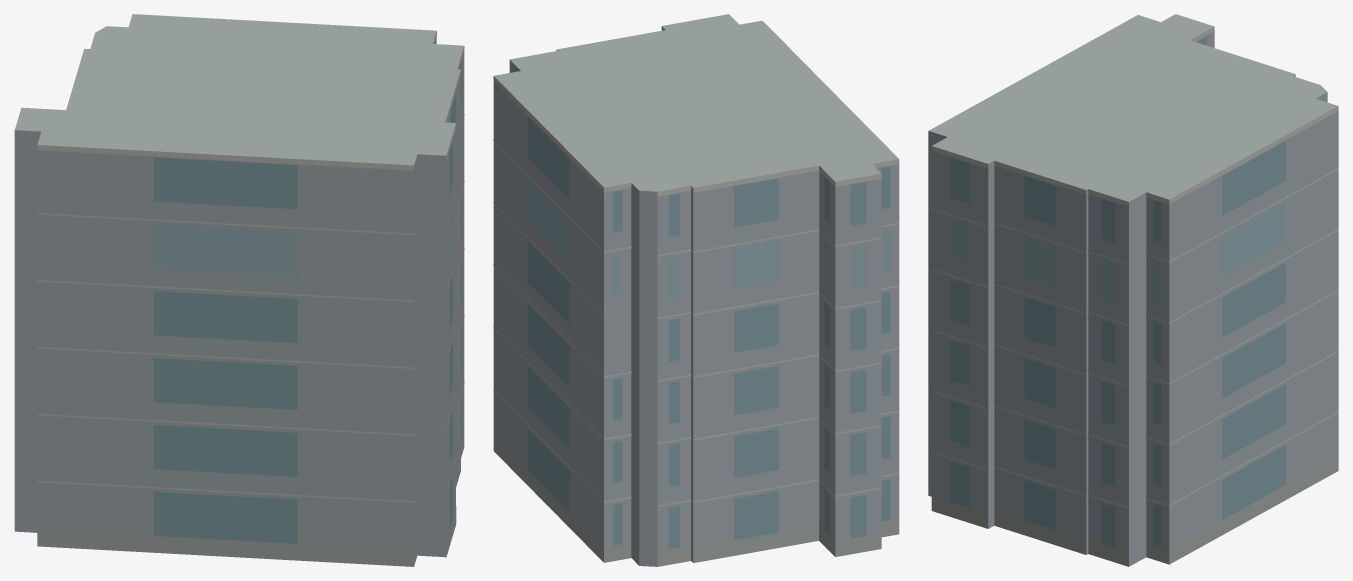
The model's file is survey-upis-32797384.glb.
The picture shows the model from 3 angles, left to right: view 1: azimuth 30°, elevation 25°; view 2: azimuth 150°, elevation 25°; view 3: azimuth 270°, elevation 25°; orthographic projection. The views are drawn at different scales.
Visible parts, largest first — view 1: survey-upis-32797384.tmp; view 2: survey-upis-32797384.tmp; view 3: survey-upis-32797384.tmp.
Boxes of the visible parts, left/top/right/bottom form: survey-upis-32797384.tmp: left=14, top=14, right=464, bottom=566; survey-upis-32797384.tmp: left=493, top=14, right=899, bottom=566; survey-upis-32797384.tmp: left=928, top=14, right=1338, bottom=566.
Bounding box in the file's own units: 20.12 × 18.2 × 18.55.
